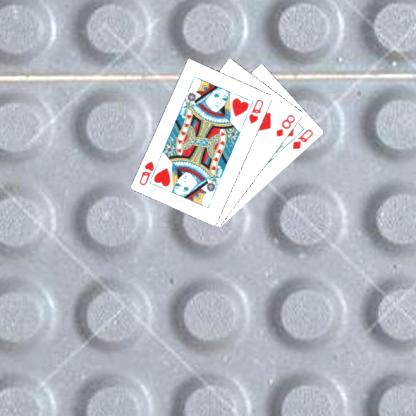8D: (275, 112, 299, 138)
QD: (291, 126, 317, 151)
QH: (139, 158, 163, 187), (248, 96, 267, 125)
